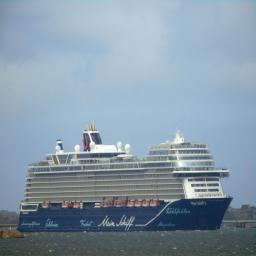cruises: (17, 123, 236, 236)
